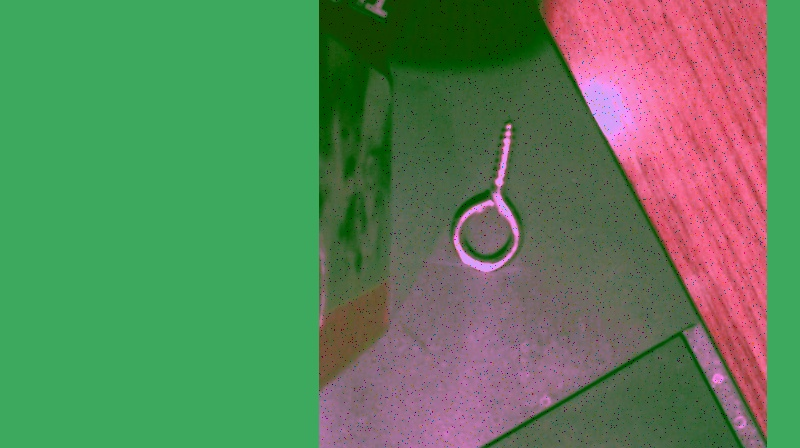O001: (450, 121, 525, 277)
